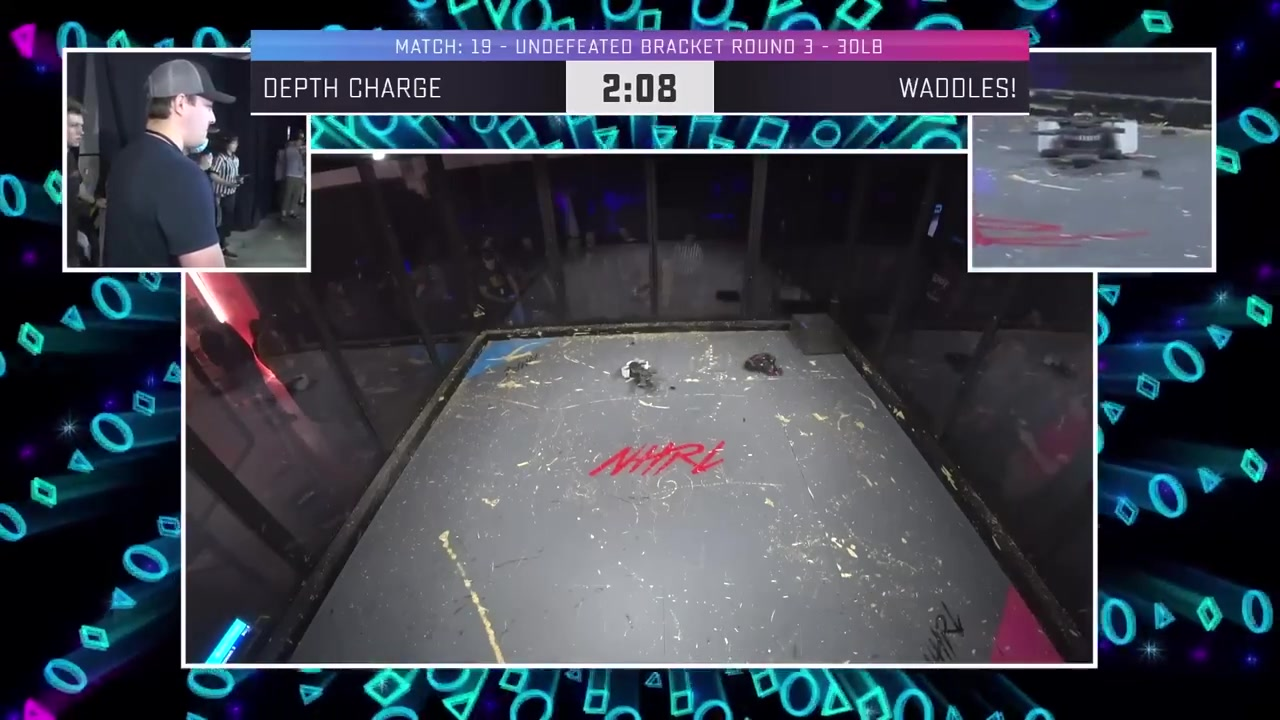combatbot: (1027, 117, 1143, 164), (620, 359, 656, 387), (744, 353, 783, 378)
housebot: (787, 313, 846, 353)
